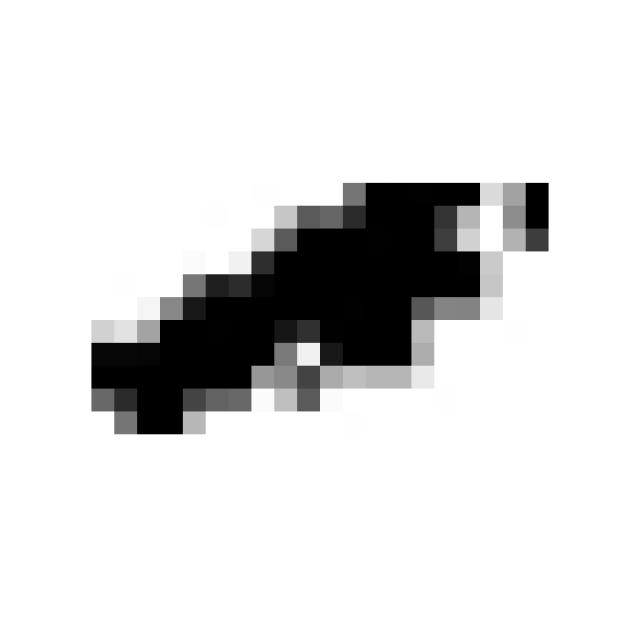0 -zero-: (73, 162, 560, 446)
